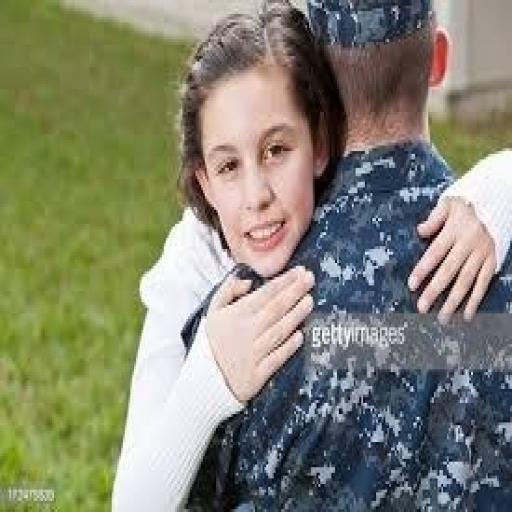hugging: (110, 0, 510, 509)
